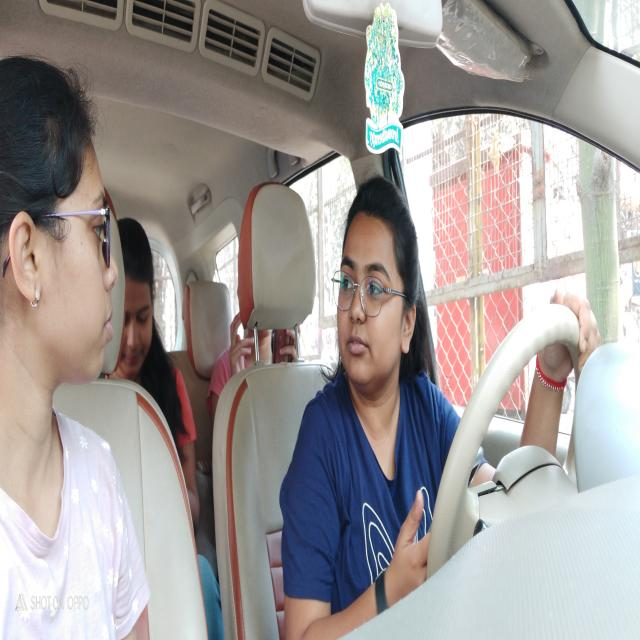LeftRight: (331, 172, 422, 399)
person: (0, 51, 124, 414), (119, 210, 161, 382)
